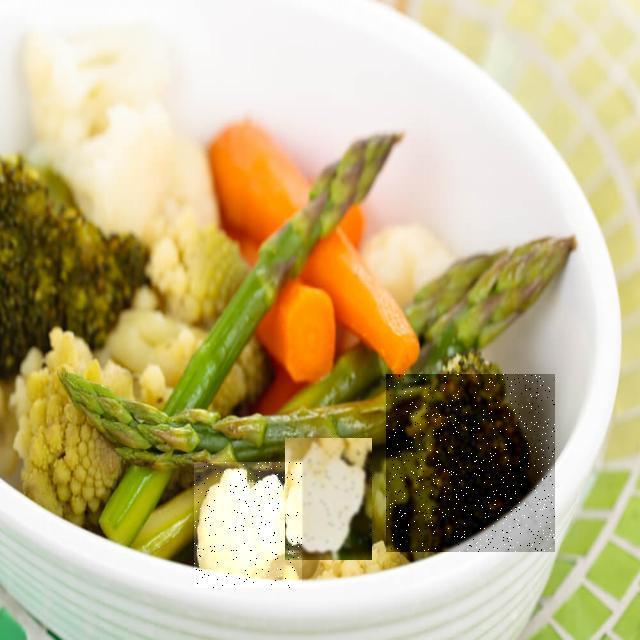Broccoli: (386, 374, 555, 552)
Cauliflower: (194, 462, 302, 588), (285, 438, 372, 560)
